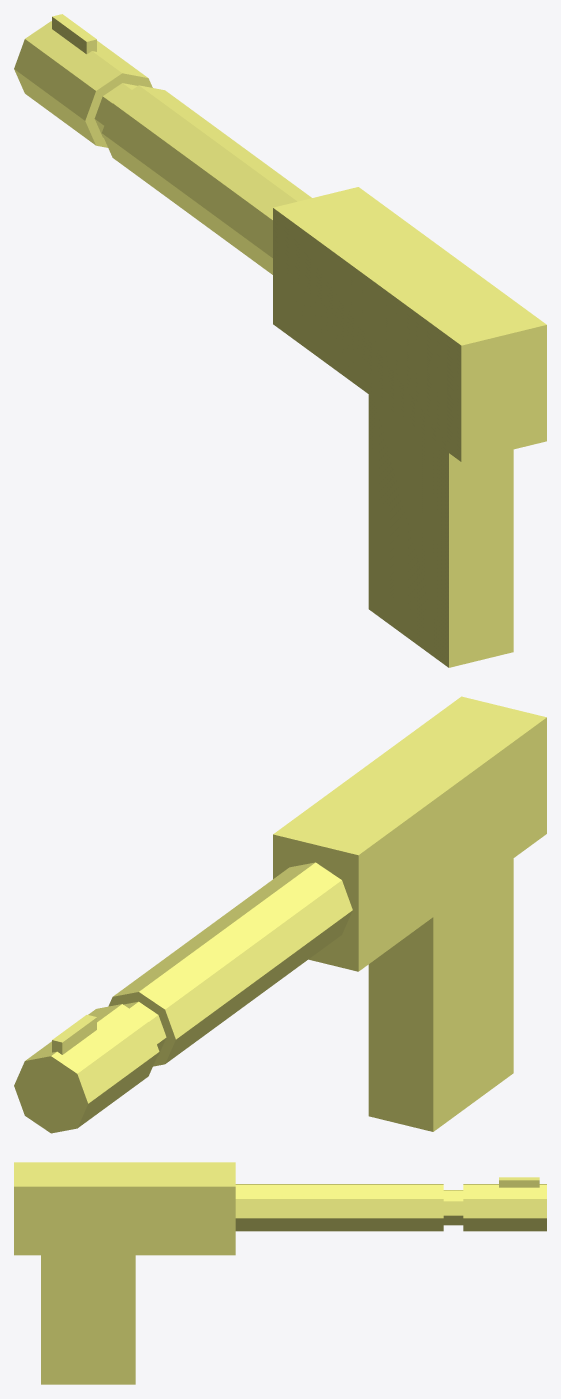
3 views of the same model, one above another, from view 1: azimuth 30°, elevation 25°; view 2: azimuth 150°, elevation 25°; view 3: azimuth 270°, elevation 25° (orthographic). The views are drawn at different scales.
Parts seen in each view (by area): view 1: Cube.001, Cube, Cylinder, Cylinder.002, Cube.002; view 2: Cube.001, Cube, Cylinder, Cylinder.002, Cube.002, Cylinder.001; view 3: Cube.001, Cube, Cylinder, Cylinder.002, Cylinder.001, Cube.002.
Boxes of the visible parts, x1,y1,x2,y2 form: Cube.001: [273, 187, 546, 461]; Cube: [368, 394, 513, 667]; Cylinder: [102, 85, 311, 274]; Cylinder.002: [14, 21, 152, 147]; Cube.002: [52, 14, 96, 54]; Cube.001: [273, 696, 546, 971]; Cube: [368, 858, 513, 1131]; Cylinder: [108, 862, 352, 1066]; Cylinder.002: [14, 1004, 159, 1133]; Cube.002: [52, 1015, 96, 1054]; Cylinder.001: [124, 1001, 166, 1056]; Cube.001: [14, 1162, 235, 1255]; Cube: [41, 1255, 135, 1384]; Cylinder: [235, 1184, 443, 1231]; Cylinder.002: [463, 1184, 546, 1231]; Cylinder.001: [443, 1190, 463, 1225]; Cube.002: [499, 1177, 539, 1187].
Bounding box in the file's own units: 0.3431 × 1.31 × 3.15.
